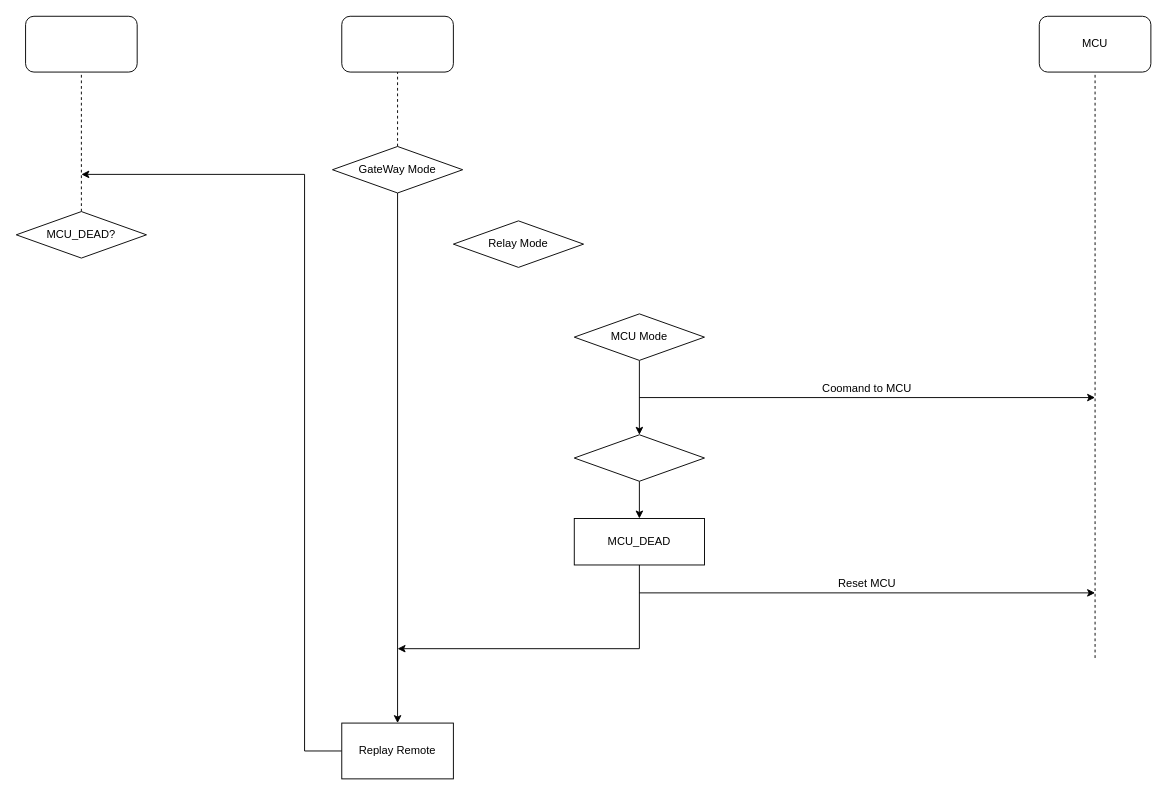
The diagram is 1167 pixels wide and 795 high, and some of its shapes have lost their labels. Each missing label, with the centre of its shape:
1s Timeout?: point 638,457
NetWork GateWay: point 397,43
Remote User: point 81,43
